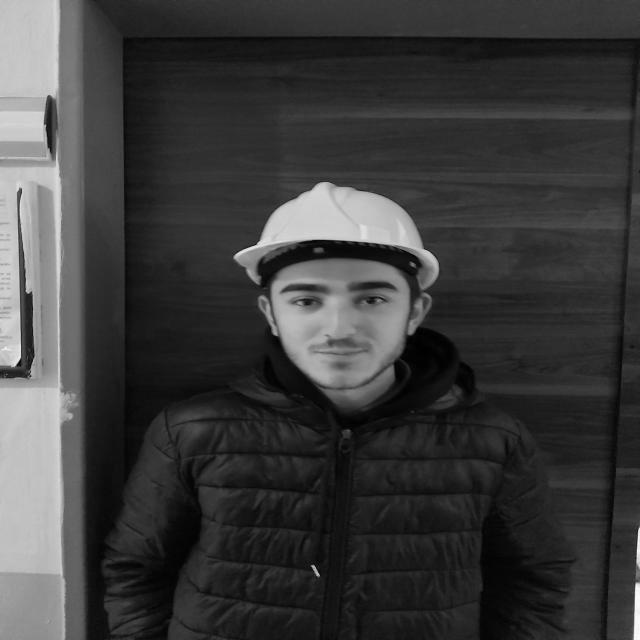construction helmet: (233, 183, 441, 295)
